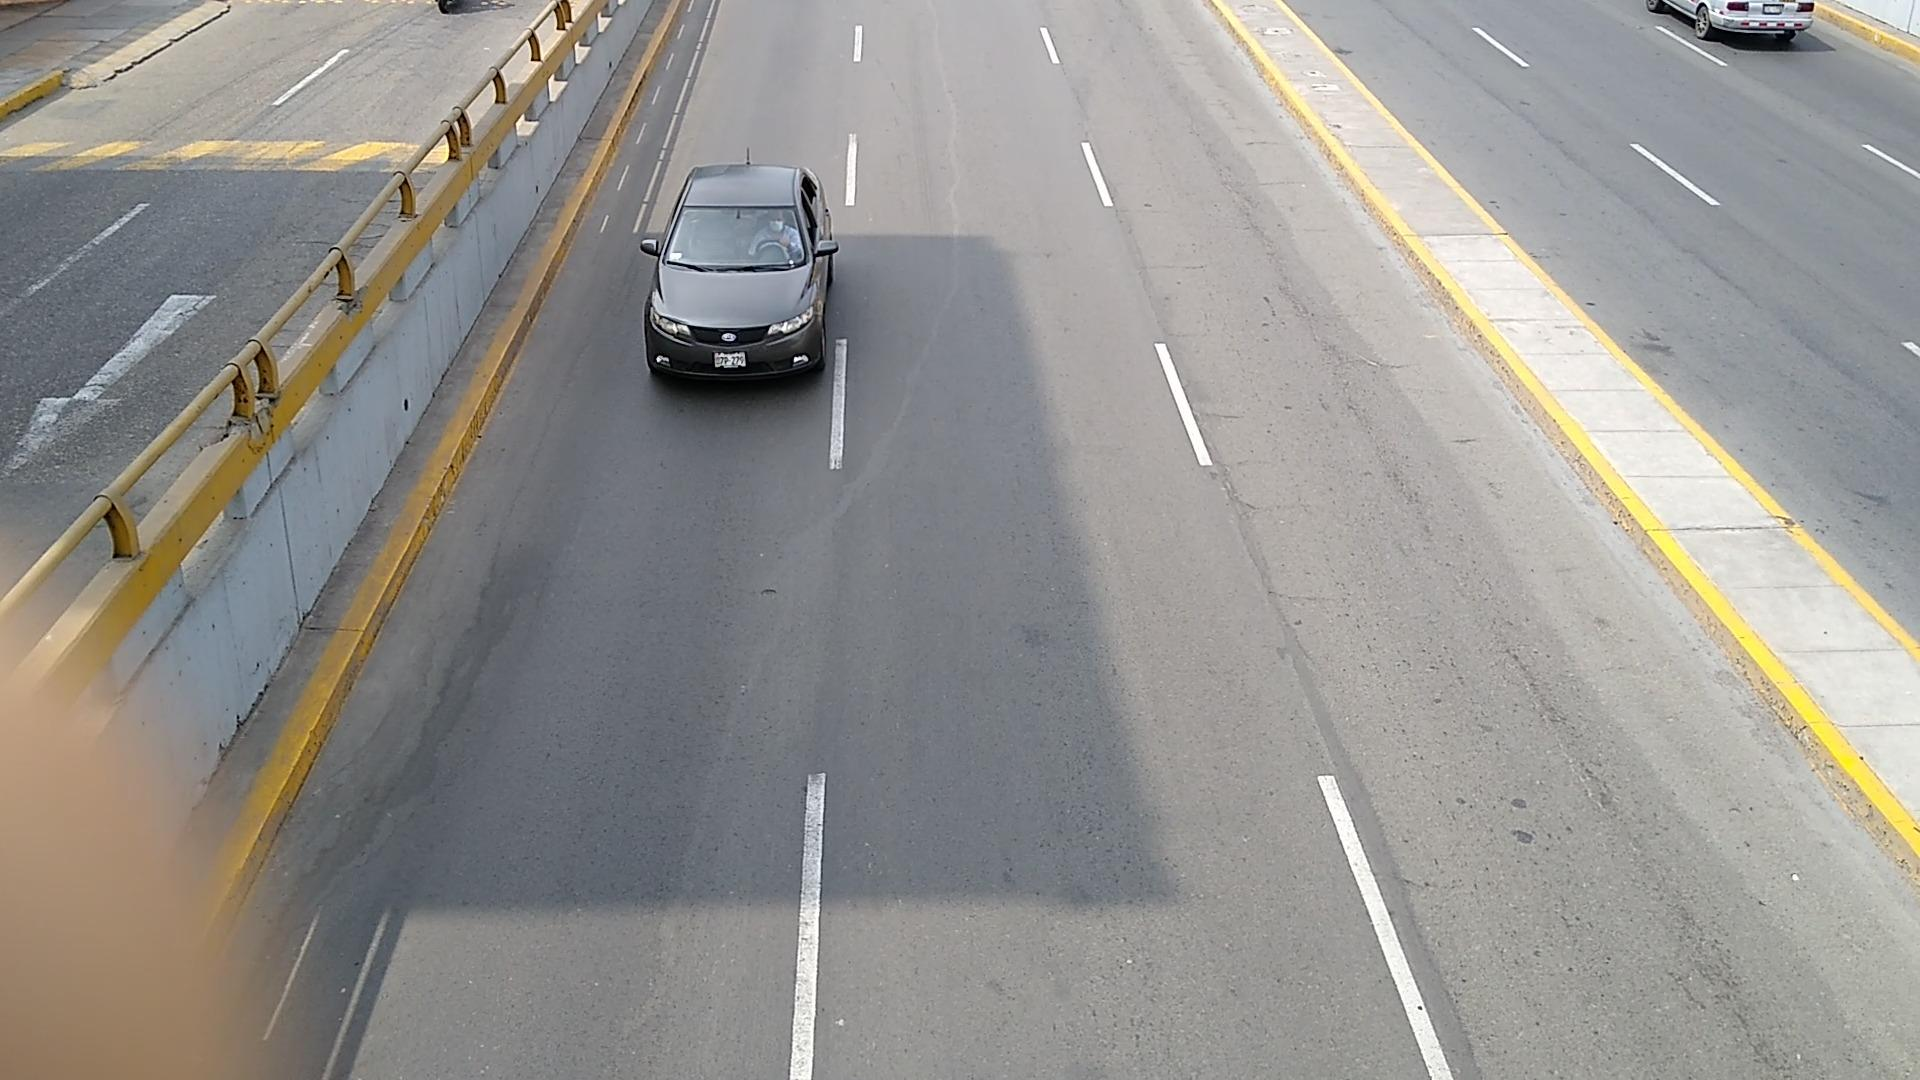car: (641, 165, 836, 378)
